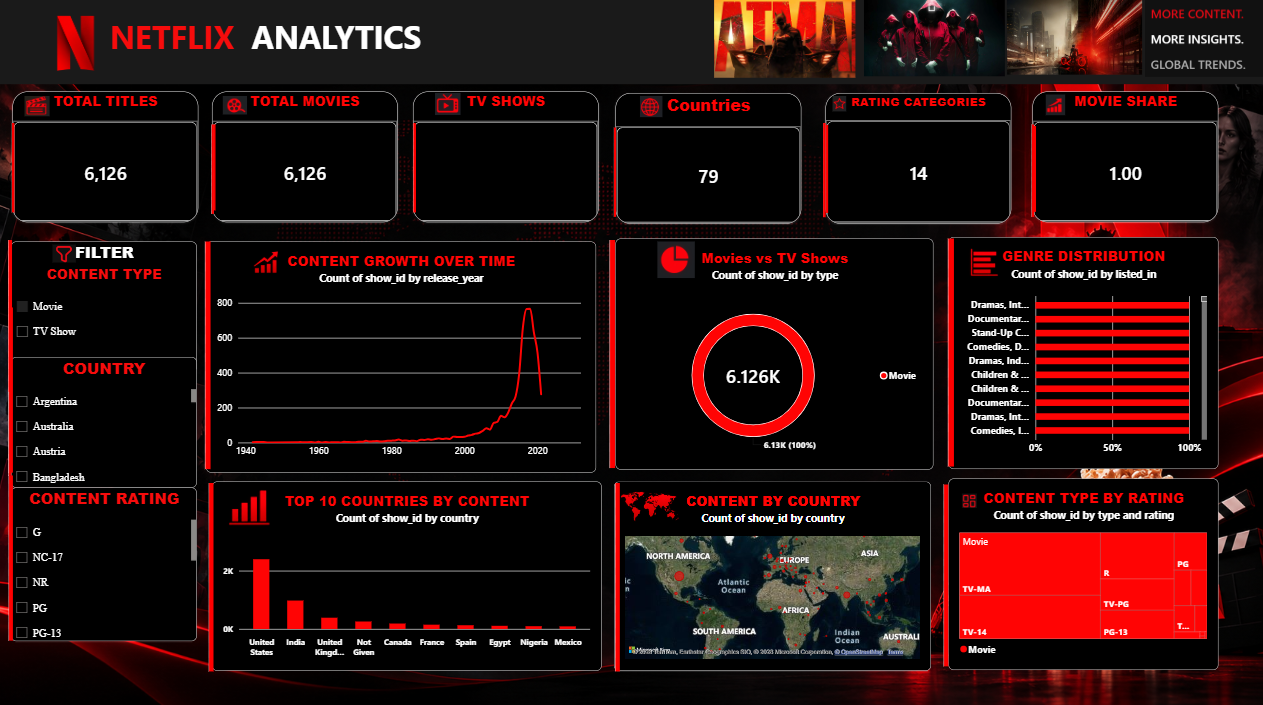

The page's visual inventory and layout, read from the dashboard file:
{"tool":"powerbi","page":{"name":"Page 1","canvas":[1920,1080],"ordinal":0},"visuals":[{"type":"cardVisual","title":"TOTAL TITLES","fields":{"Data":["netflix_cleaned.Total Titles"]},"box":[25,143.1,281,198],"z":0},{"type":"cardVisual","title":"TOTAL MOVIES","fields":{"Data":["netflix_cleaned.Total Movies"]},"box":[326.7,143.3,281,198],"z":1000},{"type":"cardVisual","title":"TV SHOWS","fields":{"Data":["netflix_cleaned.Total TV Shows"]},"box":[631.4,143.1,281,198],"z":2000},{"type":"cardVisual","title":"Countries","fields":{"Data":["netflix_cleaned.Total Countries"]},"box":[938,145.4,281,198],"z":3000},{"type":"cardVisual","title":"     RATING CATEGORIES","fields":{"Data":["netflix_cleaned.Total Rating Categories"]},"box":[1255.6,145.6,281,198],"z":4000},{"type":"cardVisual","title":"MOVIE SHARE","fields":{"Data":["netflix_cleaned.Movies Percentage"]},"box":[1569.5,143.1,281,198],"z":5000},{"type":"slicer","title":"FILTER","fields":{"Values":["netflix_cleaned.type"]},"box":[22.5,370,281,198],"z":6000},{"type":"slicer","title":"COUNTRY","fields":{"Values":["netflix_cleaned.country"]},"box":[22.5,545,281,198],"z":7000},{"type":"slicer","title":"CONTENT RATING","fields":{"Values":["netflix_cleaned.rating"]},"box":[22.5,742.5,281.4,232.9],"z":8000},{"type":"donutChart","title":"Movies vs TV Shows","fields":{"Category":["netflix_cleaned.type"],"Y":["CountNonNull(netflix_cleaned.show_id)"]},"box":[937.5,365,481.5,349.8],"z":9000},{"type":"lineChart","title":"CONTENT GROWTH OVER TIME","fields":{"Category":["netflix_cleaned.release_year"],"Y":["CountNonNull(netflix_cleaned.show_id)"]},"box":[317.5,370,590.5,349.8],"z":10000},{"type":"clusteredColumnChart","title":"TOP 10 COUNTRIES BY CONTENT","fields":{"Category":["netflix_cleaned.country"],"Y":["CountNonNull(netflix_cleaned.show_id)"]},"box":[326.7,733.3,590,286.7],"z":11000},{"type":"map","title":"CONTENT BY COUNTRY","fields":{"Category":["netflix_cleaned.country"],"Size":["CountNonNull(netflix_cleaned.show_id)"]},"box":[936.7,733.3,480,286.7],"z":12000},{"type":"hundredPercentStackedBarChart","title":"GENRE DISTRIBUTION","fields":{"Category":["netflix_cleaned.listed_in"],"Y":["CountNonNull(netflix_cleaned.show_id)"]},"box":[1441.2,363.8,408.8,351.2],"z":13000},{"type":"treemap","title":"CONTENT TYPE BY RATING","fields":{"Details":["netflix_cleaned.rating"],"Group":["netflix_cleaned.type"],"Values":["CountNonNull(netflix_cleaned.show_id)"]},"box":[1441.2,730,408.8,290],"z":14000},{"type":"textbox","box":[114.4,118.9,48.9,26.7],"z":15000},{"type":"image","box":[43.3,150,37.8,31.1],"z":16000},{"type":"image","box":[1255.6,150,42.2,23.3],"z":17000},{"type":"image","box":[314.4,148.9,96.7,27.8],"z":18000},{"type":"image","box":[631.8,144.5,105.6,33.3],"z":19000},{"type":"image","box":[936.7,150,112.2,32.2],"z":20000},{"type":"image","box":[1554.4,146.7,101.1,31.1],"z":21000},{"type":"image","box":[982.5,370,92.5,55],"z":22000},{"type":"image","box":[360,380,102.5,45],"z":23000},{"type":"image","box":[342.5,742.5,85,60],"z":24000},{"type":"image","box":[945,730,92.5,82.5],"z":25000},{"type":"image","box":[1438.8,377.5,116.2,48.8],"z":26000},{"type":"image","box":[1441,751,68,22],"z":27000},{"type":"image","box":[80,375,47.5,27.5],"z":28000},{"type":"textbox","box":[0,0,1919.3,131.7],"z":29000},{"type":"image","box":[40.9,20.4,159,99.9],"z":30000},{"type":"image","box":[1297.5,0,247.5,120],"z":31000},{"type":"image","box":[1050,2.5,290,120],"z":32000},{"type":"image","box":[1507.5,2.5,250,115],"z":33000},{"type":"image","box":[1740,2.5,180,120],"z":34000},{"type":"textbox","box":[100,100,300,300],"z":35000},{"type":"image","box":[265,192.5,130,130],"z":36000},{"type":"image","box":[175.6,371.1,291.1,344.4],"z":37000},{"type":"image","box":[787.5,367.5,290,345],"z":38000},{"type":"image","box":[1299.2,365.7,293,345.2],"z":39000},{"type":"image","box":[267.5,735,115,285],"z":40000},{"type":"image","box":[807.5,735,265,285],"z":41000},{"type":"image","box":[1317.5,737.5,242.5,275],"z":42000},{"type":"image","box":[495,192.5,277.5,132.5],"z":43000},{"type":"image","box":[830,205,217.5,120],"z":44000},{"type":"image","box":[5,190,42.5,135],"z":45000},{"type":"image","box":[1205,182.5,105,157.5],"z":46000},{"type":"image","box":[1507.5,195,130,130],"z":47000},{"type":"image","box":[0,377.5,42.5,175],"z":48000},{"type":"image","box":[0,550,42.5,175],"z":49000},{"type":"image","box":[2.5,725,40,250],"z":50000},{"type":"image","box":[2.5,470,40,250],"z":51000},{"type":"image","box":[2.5,367.5,37.5,230],"z":52000},{"type":"image","box":[307.5,192.5,42.5,135],"z":53000},{"type":"image","box":[12.5,190,1240,135],"z":54000},{"type":"image","box":[30,197.5,1815,135],"z":55000},{"type":"image","box":[1052.5,190,405,142.5],"z":56000},{"type":"image","box":[1367.5,192.5,405,140],"z":57000}]}

Visuals, with their boxes in screenshot pixels (x1, y1, x2, y2), scaled from the page's 1920x1080 canvas onto the 1263x705 screenshot:
"TOTAL TITLES" cardVisual: l=16, t=93, r=201, b=223
"TOTAL MOVIES" cardVisual: l=215, t=94, r=400, b=223
"TV SHOWS" cardVisual: l=415, t=93, r=600, b=223
"Countries" cardVisual: l=617, t=95, r=802, b=224
"     RATING CATEGORIES" cardVisual: l=826, t=95, r=1011, b=224
"MOVIE SHARE" cardVisual: l=1032, t=93, r=1217, b=223
"FILTER" slicer: l=15, t=242, r=200, b=371
"COUNTRY" slicer: l=15, t=356, r=200, b=485
"CONTENT RATING" slicer: l=15, t=485, r=200, b=637
"Movies vs TV Shows" donutChart: l=617, t=238, r=933, b=467
"CONTENT GROWTH OVER TIME" lineChart: l=209, t=242, r=597, b=470
"TOP 10 COUNTRIES BY CONTENT" clusteredColumnChart: l=215, t=479, r=603, b=666
"CONTENT BY COUNTRY" map: l=616, t=479, r=932, b=666
"GENRE DISTRIBUTION" hundredPercentStackedBarChart: l=948, t=237, r=1217, b=467
"CONTENT TYPE BY RATING" treemap: l=948, t=477, r=1217, b=666
textbox: l=75, t=78, r=107, b=95
image: l=28, t=98, r=53, b=118
image: l=826, t=98, r=854, b=113
image: l=207, t=97, r=270, b=115
image: l=416, t=94, r=485, b=116
image: l=616, t=98, r=690, b=119
image: l=1023, t=96, r=1089, b=116
image: l=646, t=242, r=707, b=277
image: l=237, t=248, r=304, b=277
image: l=225, t=485, r=281, b=524
image: l=622, t=477, r=682, b=530
image: l=946, t=246, r=1023, b=278
image: l=948, t=490, r=993, b=505
image: l=53, t=245, r=84, b=263
textbox: l=0, t=0, r=1262, b=86
image: l=27, t=13, r=131, b=79
image: l=854, t=0, r=1016, b=78
image: l=691, t=2, r=881, b=80
image: l=992, t=2, r=1156, b=77
image: l=1145, t=2, r=1262, b=80
textbox: l=66, t=65, r=263, b=261
image: l=174, t=126, r=260, b=211
image: l=116, t=242, r=307, b=467
image: l=518, t=240, r=709, b=465
image: l=855, t=239, r=1047, b=464
image: l=176, t=480, r=252, b=666
image: l=531, t=480, r=706, b=666
image: l=867, t=481, r=1026, b=661
image: l=326, t=126, r=508, b=212
image: l=546, t=134, r=689, b=212
image: l=3, t=124, r=31, b=212
image: l=793, t=119, r=862, b=222
image: l=992, t=127, r=1077, b=212
image: l=0, t=246, r=28, b=361
image: l=0, t=359, r=28, b=473
image: l=2, t=473, r=28, b=636
image: l=2, t=307, r=28, b=470
image: l=2, t=240, r=26, b=390
image: l=202, t=126, r=230, b=214
image: l=8, t=124, r=824, b=212
image: l=20, t=129, r=1214, b=217
image: l=692, t=124, r=959, b=217
image: l=900, t=126, r=1166, b=217
